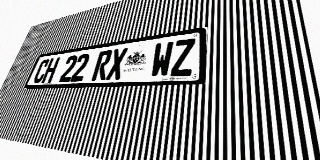2: (70, 53, 91, 82), (59, 55, 79, 82)
C: (32, 59, 51, 84)
H: (41, 57, 60, 83)
R: (91, 50, 113, 81)
W: (149, 41, 174, 78)
X: (106, 48, 128, 80)
Z: (170, 38, 195, 77)
